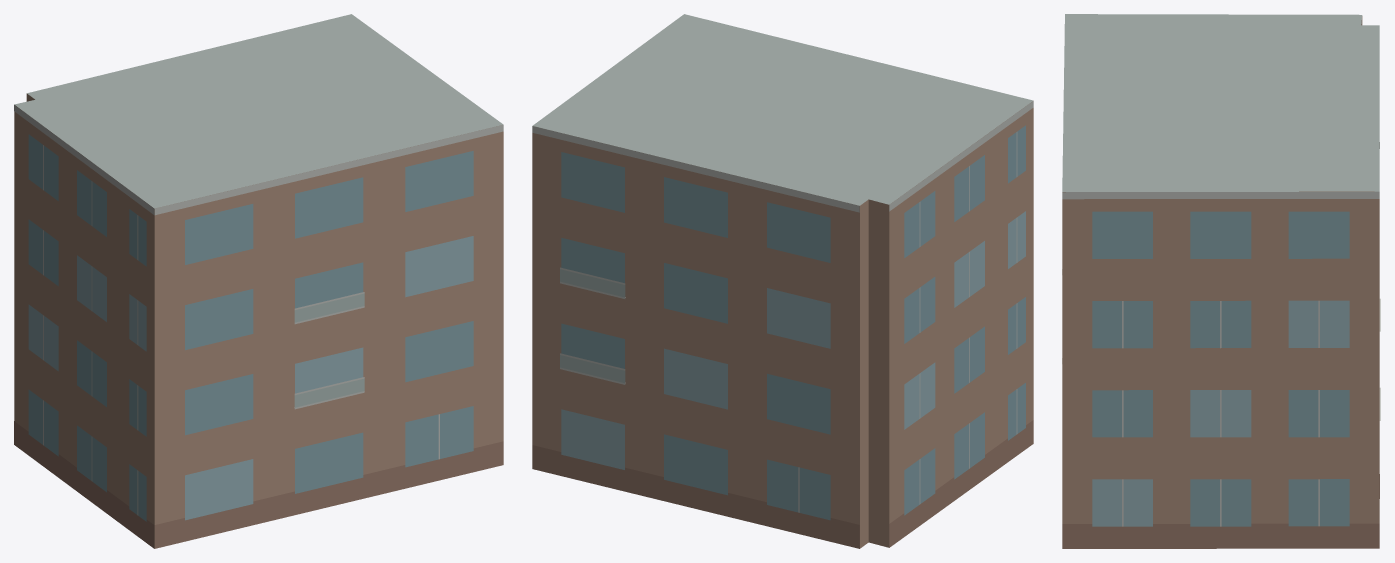
File: survey-upis-32953830.glb
3 renders of one model, left to right at view 1: azimuth 30°, elevation 25°; view 2: azimuth 150°, elevation 25°; view 3: azimuth 270°, elevation 25°, orthographic. The views are drawn at different scales.
Parts seen in each view (by area): view 1: survey-upis-32953830.tmp; view 2: survey-upis-32953830.tmp; view 3: survey-upis-32953830.tmp.
Boxes of the visible parts, x1,y1,x2,y2 form: survey-upis-32953830.tmp: [14, 14, 503, 548]; survey-upis-32953830.tmp: [532, 14, 1033, 548]; survey-upis-32953830.tmp: [1062, 14, 1380, 548].
Size of the model in its own units: 13.06 by 12.2 by 9.88.
